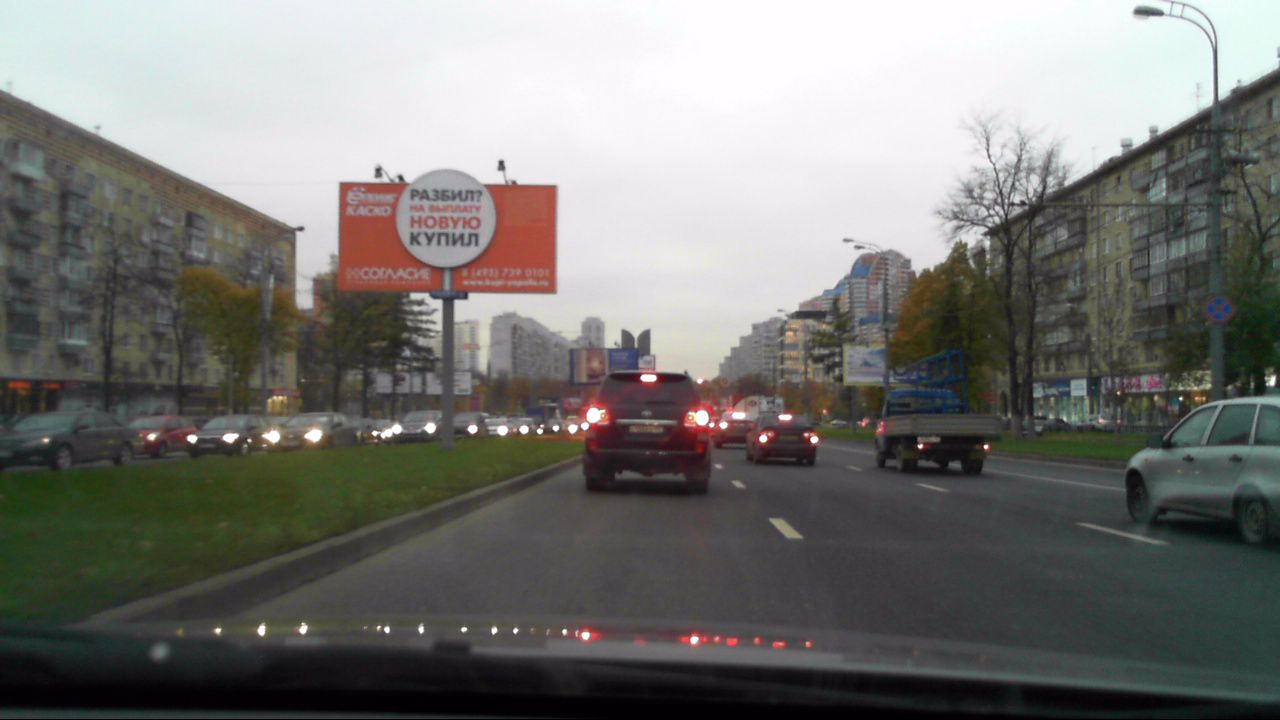No Parking: (1203, 293, 1234, 323)
